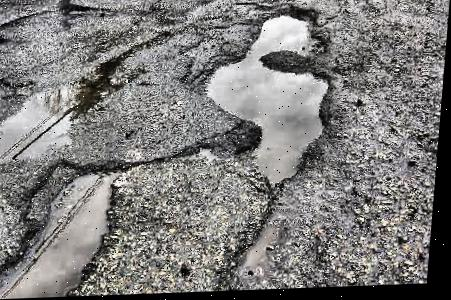pothole: (194, 3, 342, 194), (0, 156, 143, 299)
